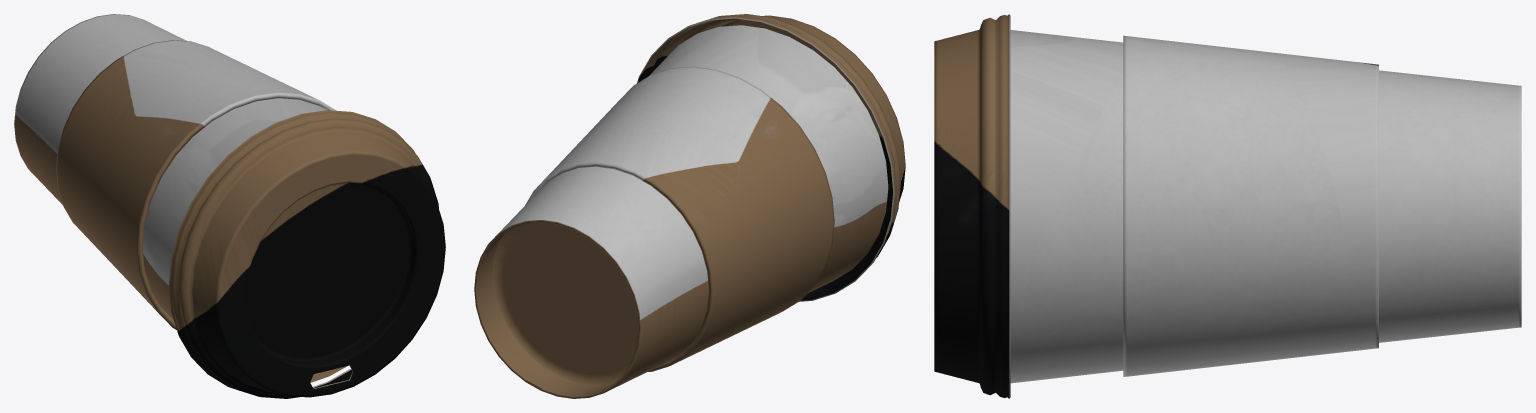
3 renders of one model, left to right at view 1: azimuth 30°, elevation 25°; view 2: azimuth 150°, elevation 25°; view 3: azimuth 270°, elevation 25°, orthographic. The views are drawn at different scales.
Bounding box in the file's own units: 0.6559 × 0.6559 × 1.
